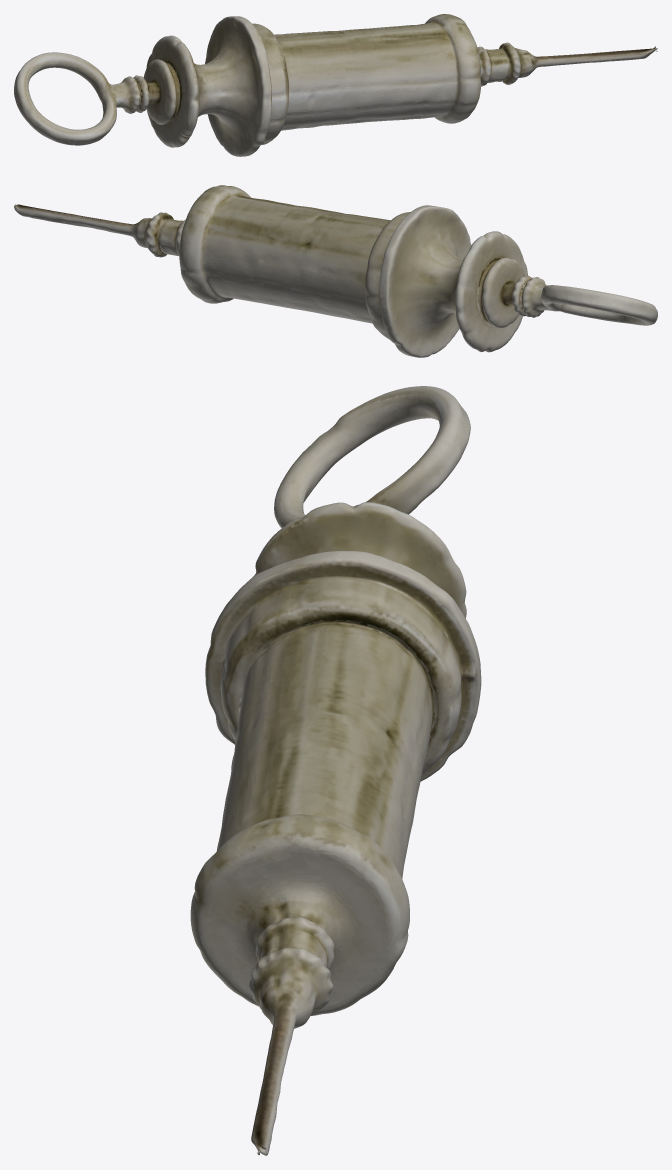
Rendered from syringe.fbx.
3 views of the same model, one above another, from view 1: azimuth 30°, elevation 25°; view 2: azimuth 150°, elevation 25°; view 3: azimuth 270°, elevation 25° (orthographic). The views are drawn at different scales.
Visible parts, largest first — view 1: tripo_node_36c9385d; view 2: tripo_node_36c9385d; view 3: tripo_node_36c9385d.
Boxes of the visible parts, x1,y1,x2,y2 form: tripo_node_36c9385d: (14,14,657,156); tripo_node_36c9385d: (14,185,657,357); tripo_node_36c9385d: (190,386,481,1155).
Bounding box in the file's own units: 98.13 × 20.22 × 21.
Materials: 1 (1 with a texture image).
